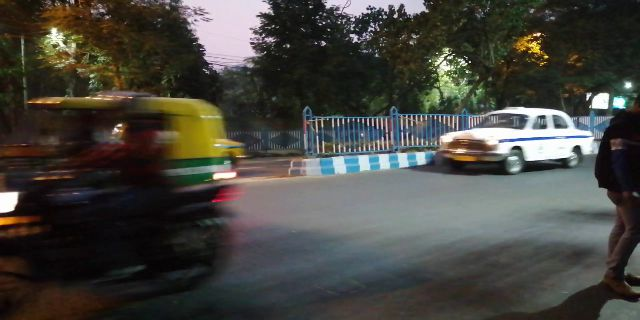Car: (433, 101, 597, 171)
